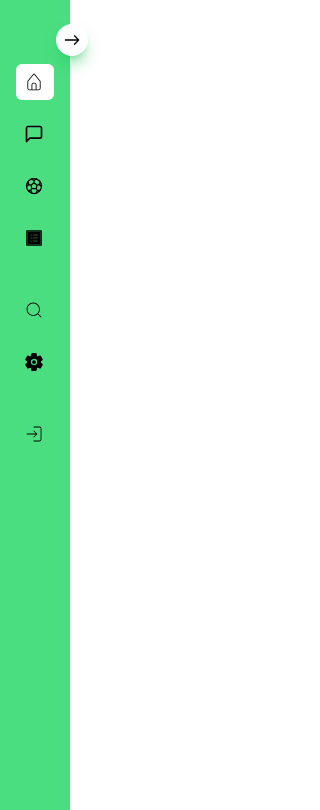
Scenario: 사이드바 테스트 › 사이드바가 잘 열고 닫히는지 테스트
The image size is (320, 810).
Click the element with test id "toggle-button" at (72, 40), box [56,24,88,56]
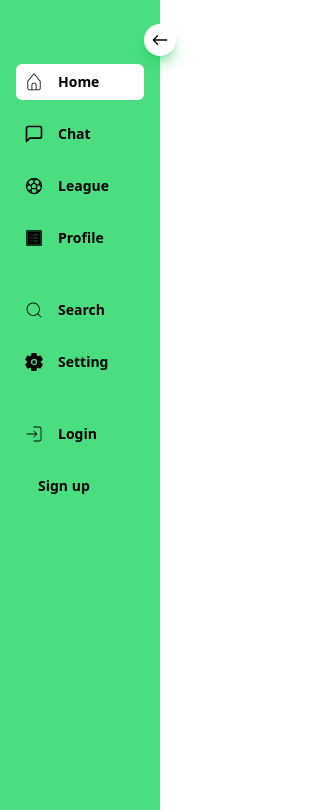
expect the icon with test id "arrow-roundBack-icon" is shown: met, box [147,27,173,53]
Click the element with test id "toggle-button" at (160, 40), box [144,24,176,56]
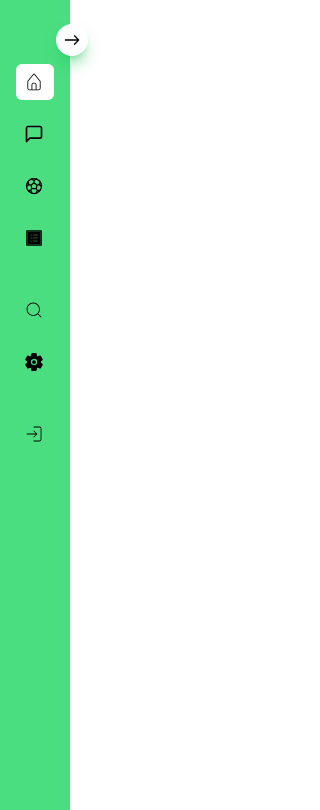
expect the icon with test id "arrow-roundForward-icon" is shown: met, box [59,27,85,53]
